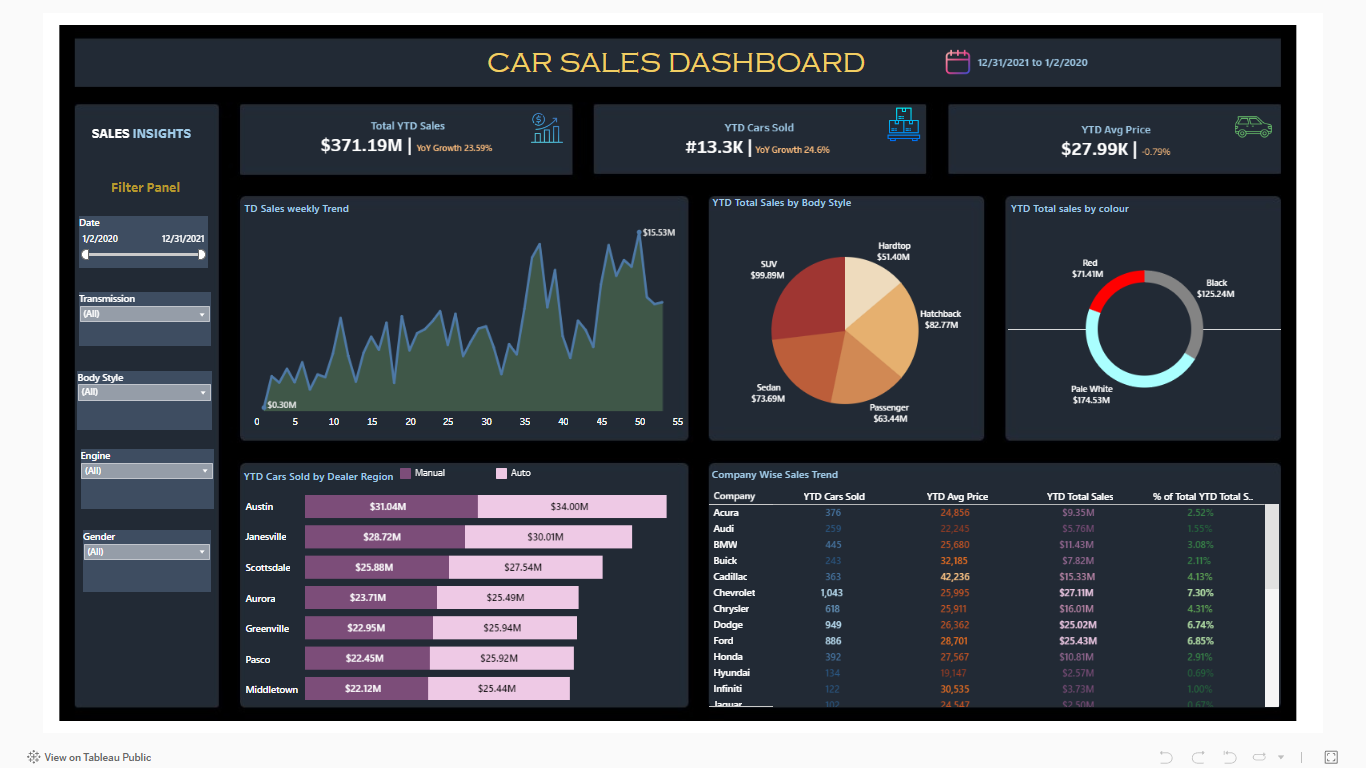

What the dashboard file says about the page in this screenshot:
{"tool":"tableau","page":{"name":"Dashboard 1","canvas":[1600,900],"ordinal":0},"visuals":[{"type":"image","box":[5.4,6.1,1583.9,886.3]},{"type":"image","param":"C:/Users/Rohith/Desktop/pizza project/car sales/Car Sales - Tableau/Car Sales Ba","box":[11.4,15.1,1564.5,869.9]},{"type":"text","box":[436.5,30.4,711,66.9]},{"type":"worksheet","title":"Date Range","mark":"Automatic","box":[1141,38,209,46]},{"type":"image","param":"C:/Users/Rohith/Desktop/pizza project/car sales/Car Sales - Tableau/Images Used/","box":[1122,44,43,34]},{"type":"worksheet","title":"YTD Total sales","mark":"Automatic","box":[246,112,429,86]},{"type":"image","param":"C:/Users/Rohith/Desktop/pizza project/car sales/Car Sales - Tableau/Images Used/","box":[1054,114,44,50]},{"type":"worksheet","title":" YTD Cars Sold","mark":"Automatic","box":[688,115,413,84]},{"type":"image","param":"C:/Users/Rohith/Desktop/pizza project/car sales/Car Sales - Tableau/Images Used/","box":[1482,115,62,54]},{"type":"image","param":"C:/Users/Rohith/Desktop/pizza project/car sales/Car Sales - Tableau/Images Used/","box":[607,121,46,44]},{"type":"worksheet","title":"YTD Avg Price","mark":"Automatic","box":[1135,122,411,74]},{"type":"text","box":[58,135,130,30]},{"type":"text","box":[63,202,130,30]},{"type":"worksheet","title":"YTD Total Sales by Body Style","mark":"Pie","box":[833,222,340,318]},{"type":"worksheet","title":"TD Sales weekly Trend","mark":"Area","rows":["Calculation_364228659851436032","Calculation_364228659851436032"],"cols":["Date"],"box":[248,229,556,300]},{"type":"worksheet","title":"YTD Total sales by colour","mark":"Pie","rows":["Calculation_956733485893697541","Calculation_956733485893697541"],"box":[1206,229,341,300]},{"type":"filter","title":"TD Sales weekly Trend","param":"[federated.1a243i718cdg1f1bvt7z10h28cah].[none:Date:qk]","box":[45,254,161,65]},{"type":"filter","title":"TD Sales weekly Trend","param":"[federated.1a243i718cdg1f1bvt7z10h28cah].[none:Transmission:nk]","box":[45,349,165,67]},{"type":"filter","title":"TD Sales weekly Trend","param":"[federated.1a243i718cdg1f1bvt7z10h28cah].[none:Body Style:nk]","box":[43,447,168,74]},{"type":"filter","title":"TD Sales weekly Trend","param":"[federated.1a243i718cdg1f1bvt7z10h28cah].[none:Engine:nk]","box":[47,545,167,75]},{"type":"worksheet","title":"Company Wise Sales Trend","mark":"Automatic","rows":["Company"],"box":[832,562,714,305]},{"type":"worksheet","title":"YTD Cars Sold by Dealer Region","mark":"Automatic","rows":["Dealer_Region"],"cols":["Calculation_364228659851436032"],"box":[247,565,555,299]},{"type":"legend","title":"YTD Cars Sold by Dealer Region","param":"[federated.1a243i718cdg1f1bvt7z10h28cah].[none:Transmission:nk]","box":[443,565,336,33]},{"type":"filter","title":"TD Sales weekly Trend","param":"[federated.1a243i718cdg1f1bvt7z10h28cah].[none:Gender:nk]","box":[50,646,160,77]}]}

Visuals, with their boxes on the page's 1600x900 design canvas (x1, y1, x2, y2). These are canvas units, not pixel positions in the 1366x768 screenshot, which may show the page scaled, cropped or inside an application window:
image: [5, 6, 1589, 892]
image: [11, 15, 1576, 885]
text: [436, 30, 1148, 97]
"Date Range" worksheet: [1141, 38, 1350, 84]
image: [1122, 44, 1165, 78]
"YTD Total sales" worksheet: [246, 112, 675, 198]
image: [1054, 114, 1098, 164]
" YTD Cars Sold" worksheet: [688, 115, 1101, 199]
image: [1482, 115, 1544, 169]
image: [607, 121, 653, 165]
"YTD Avg Price" worksheet: [1135, 122, 1546, 196]
text: [58, 135, 188, 165]
text: [63, 202, 193, 232]
"YTD Total Sales by Body Style" worksheet (Pie marks): [833, 222, 1173, 540]
"TD Sales weekly Trend" worksheet (Area marks): [248, 229, 804, 529]
"YTD Total sales by colour" worksheet (Pie marks): [1206, 229, 1547, 529]
"TD Sales weekly Trend" filter: [45, 254, 206, 319]
"TD Sales weekly Trend" filter: [45, 349, 210, 416]
"TD Sales weekly Trend" filter: [43, 447, 211, 521]
"TD Sales weekly Trend" filter: [47, 545, 214, 620]
"Company Wise Sales Trend" worksheet: [832, 562, 1546, 867]
"YTD Cars Sold by Dealer Region" worksheet: [247, 565, 802, 864]
"YTD Cars Sold by Dealer Region" legend: [443, 565, 779, 598]
"TD Sales weekly Trend" filter: [50, 646, 210, 723]
